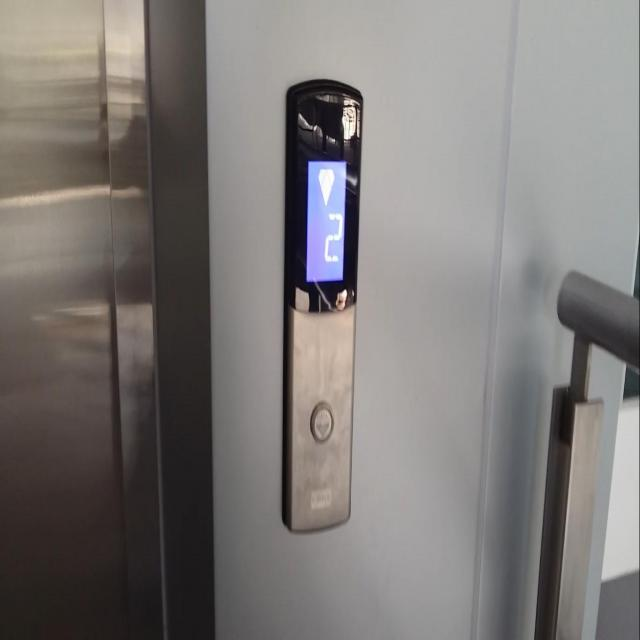down: (309, 402, 333, 442)
led: (305, 152, 348, 286)
